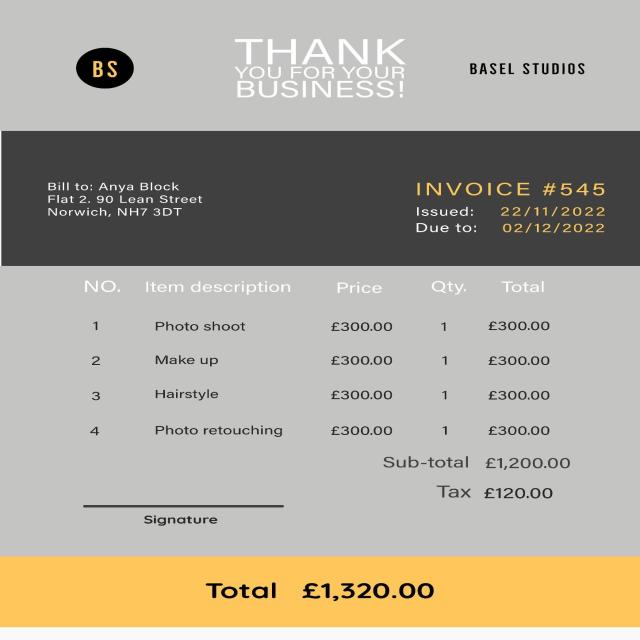paragraph: (405, 170, 618, 247), (225, 30, 421, 105), (369, 452, 588, 508), (39, 171, 212, 229), (199, 575, 449, 611), (467, 57, 602, 78), (135, 515, 225, 529), (90, 59, 117, 78)
table: (67, 274, 608, 438)
